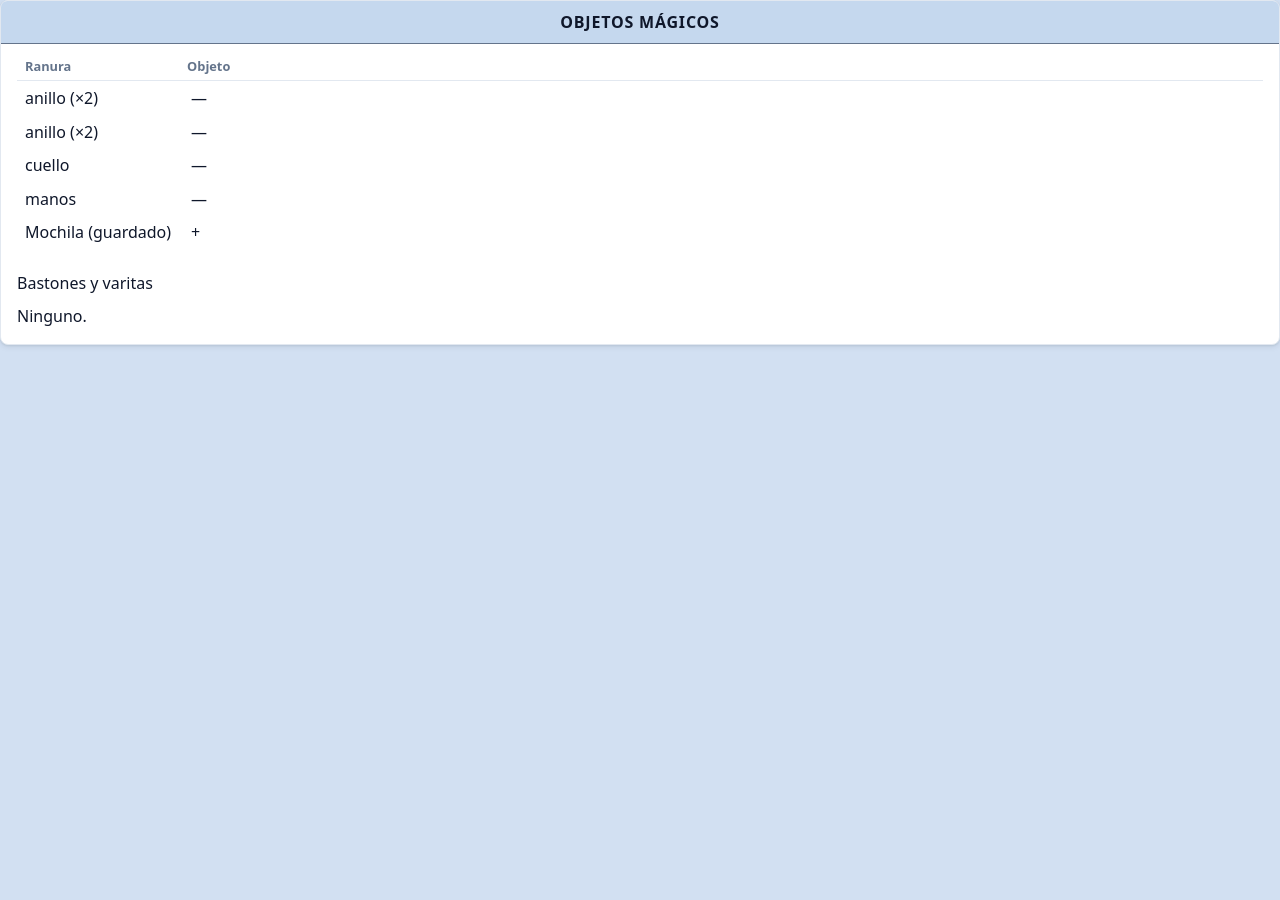
Test: MagicItemsSection › creates an item already in the slot that was clicked
Click the button named "Añadir objeto en cuello" at coordinates (199, 165), box [187,152,211,179]
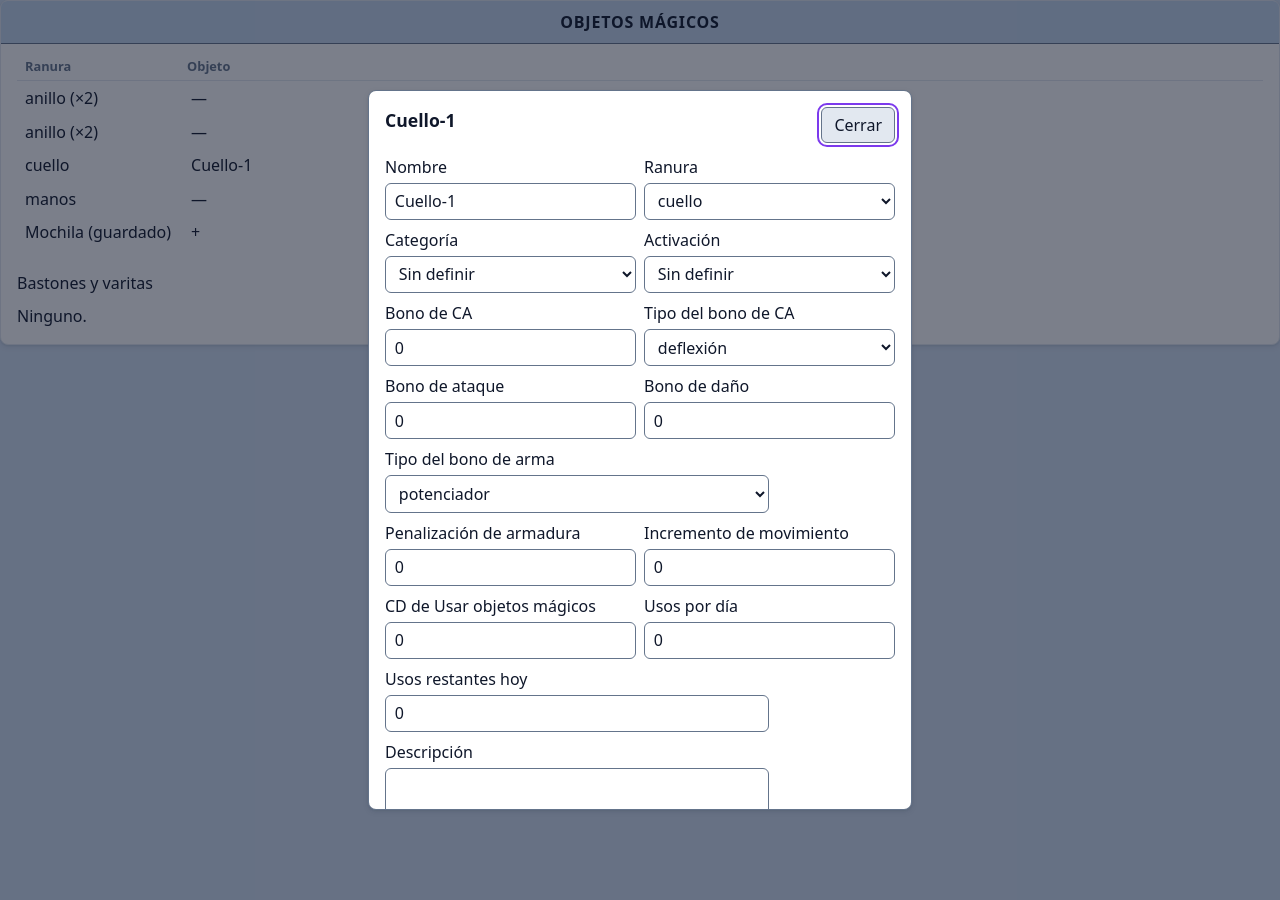
Expected: the dialog is shown, [368,90,912,810]
